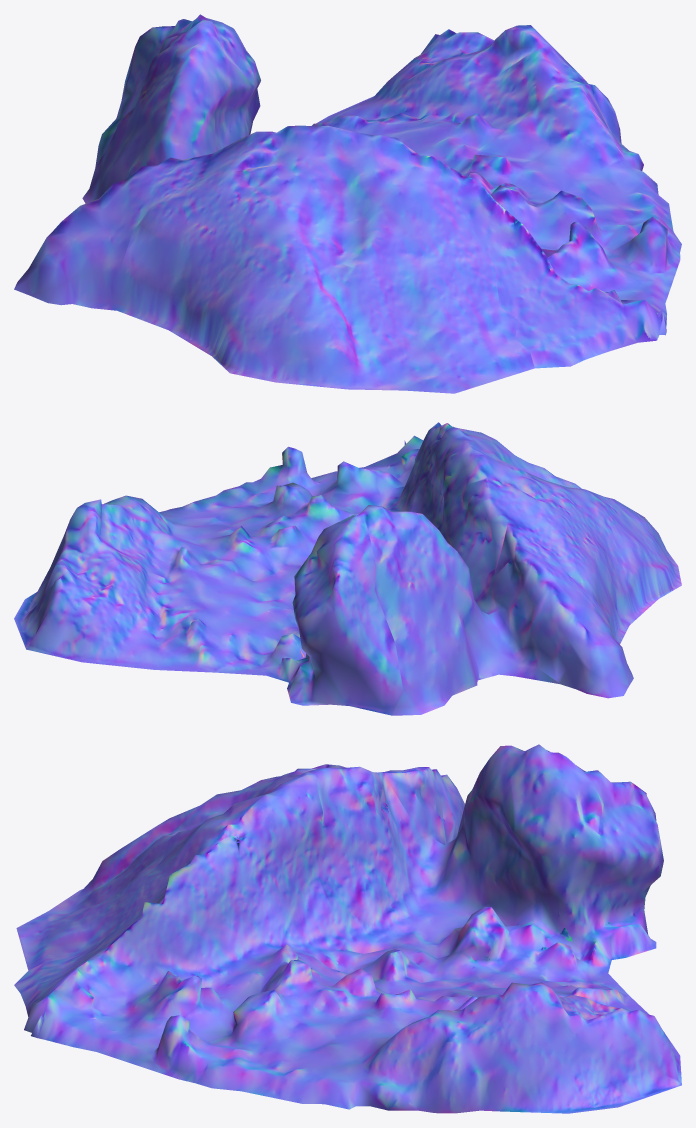
Rendered from RockFormation006 Moss Variant.fbx.
3 renders of one model, top to bottom at view 1: azimuth 30°, elevation 25°; view 2: azimuth 150°, elevation 25°; view 3: azimuth 270°, elevation 25°, orthographic. The views are drawn at different scales.
Visible parts, largest first — view 1: RFHI06_LOD0; view 2: RFHI06_LOD0; view 3: RFHI06_LOD0.
Part boxes in pixels (<box>): RFHI06_LOD0: <box>14,14,681,393</box>; RFHI06_LOD0: <box>14,422,681,715</box>; RFHI06_LOD0: <box>14,744,681,1113</box>.
Size of the model in its own units: 2810 by 816 by 2667.
